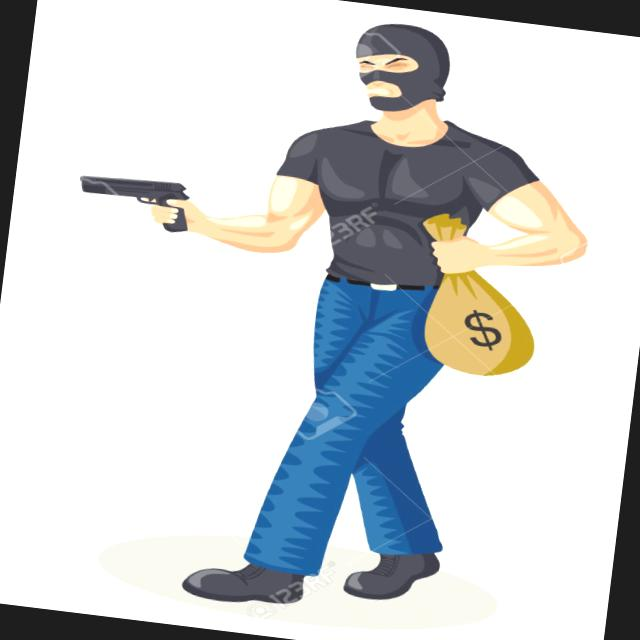handgun: (70, 168, 196, 235)
